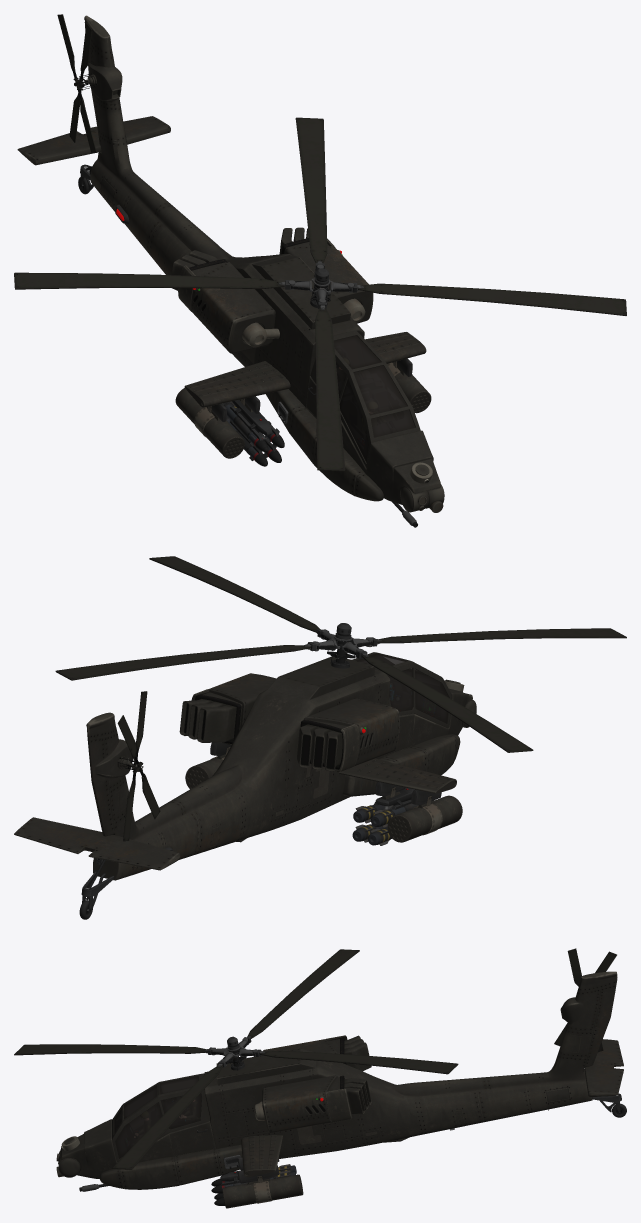
Rendered from helicopter.glb.
3 renders of one model, top to bottom at view 1: azimuth 30°, elevation 25°; view 2: azimuth 150°, elevation 25°; view 3: azimuth 270°, elevation 25°, orthographic. The views are drawn at different scales.
Visible parts, largest first — view 1: part_a.3, top_fan.14, part_b.4, glass.16, back_fan.15; view 2: part_a.3, top_fan.14, part_b.4, back_fan.15, glass.16; view 3: part_a.3, top_fan.14, part_b.4, glass.16, back_fan.15.
Part boxes in pixels (x1,y1,x2,y2): part_a.3: (17, 15, 440, 504); top_fan.14: (14, 117, 626, 471); part_b.4: (78, 164, 444, 527); glass.16: (334, 335, 415, 462); back_fan.15: (57, 14, 97, 153); part_a.3: (14, 652, 472, 880); top_fan.14: (55, 556, 626, 752); part_b.4: (79, 655, 476, 919); back_fan.15: (117, 691, 160, 841); glass.16: (356, 653, 448, 723); part_a.3: (60, 971, 623, 1189); top_fan.14: (14, 949, 458, 1169); part_b.4: (56, 1059, 626, 1208); glass.16: (114, 1076, 201, 1158); back_fan.15: (554, 948, 616, 1052).
Bounding box in the file's own units: 9.7 × 5.52 × 13.13.
6 materials, 6 textured.
